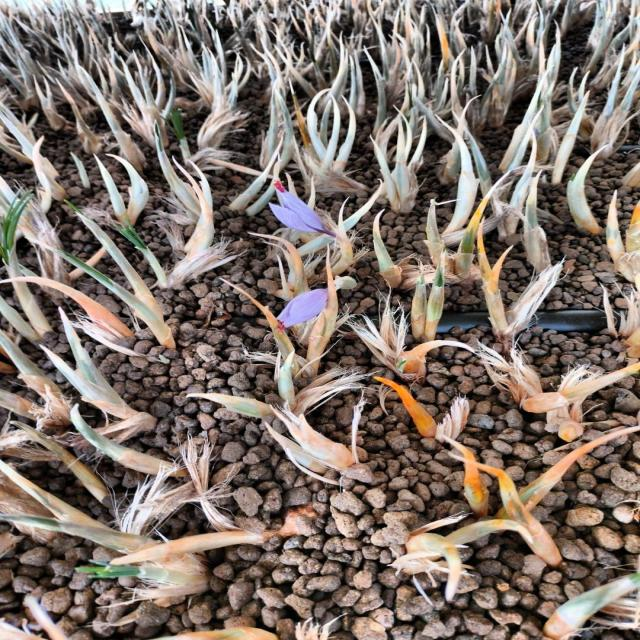Flower: (264, 174, 330, 236), (272, 278, 336, 339)
